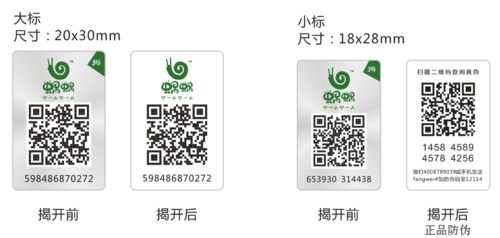QRCode: (26, 103, 91, 168), (143, 104, 212, 165), (417, 79, 479, 140), (310, 115, 368, 170)
